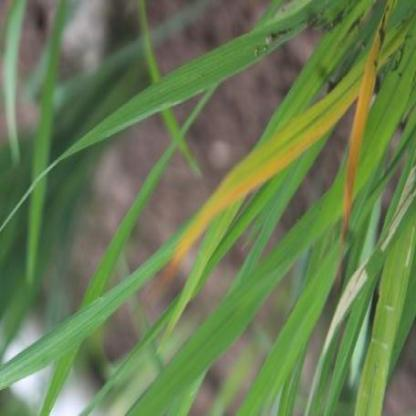Tungro: (156, 44, 374, 297), (336, 1, 404, 281)
